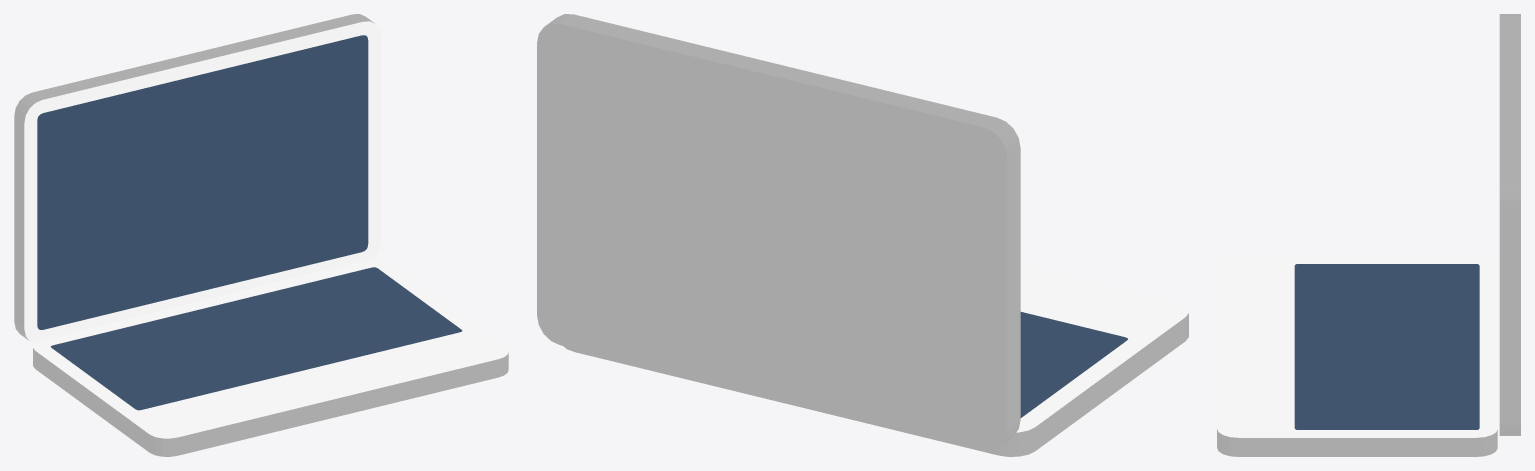
File: laptopIso.glb
3 renders of one model, left to right at view 1: azimuth 30°, elevation 25°; view 2: azimuth 150°, elevation 25°; view 3: azimuth 270°, elevation 25°, orthographic. The views are drawn at different scales.
Parts seen in each view (by area): view 1: laptopScreen; view 2: laptopScreen; view 3: laptopScreen.
Part boxes in pixels (x1=…): laptopScreen: x1=14, y1=14, x2=508, y2=456; laptopScreen: x1=537, y1=14, x2=1188, y2=456; laptopScreen: x1=1217, y1=14, x2=1520, y2=456.
Bounding box in the file's own units: 2.24 × 1.54 × 1.58.
